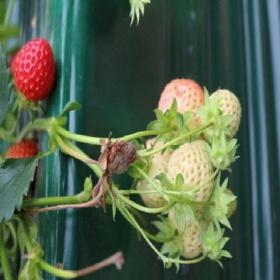Gray Mold: (89, 131, 138, 189)
